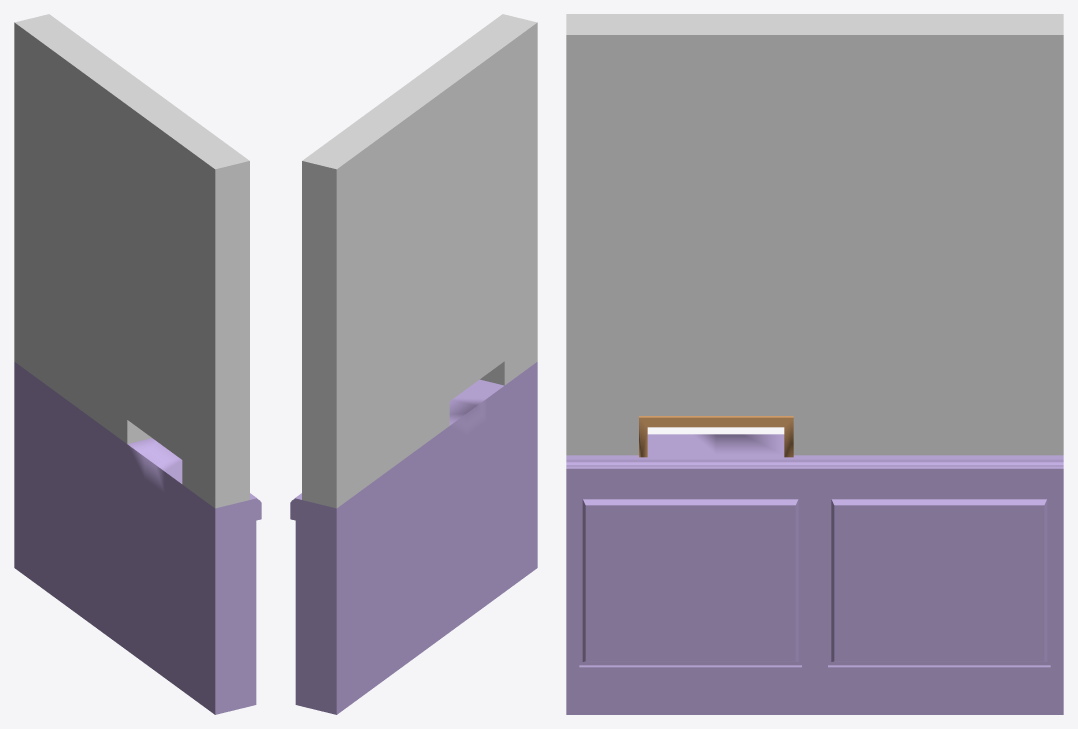
The model's file is WallWithNEWHole.fbx.
The picture shows the model from 3 angles, left to right: view 1: azimuth 30°, elevation 25°; view 2: azimuth 150°, elevation 25°; view 3: azimuth 270°, elevation 25°; orthographic projection. The views are drawn at different scales.
Parts seen in each view (by area): view 1: Wall_M; view 2: Wall_M; view 3: Wall_M.
Boxes of the visible parts, <box> form: Wall_M: <box>14,14,261,714</box>; Wall_M: <box>290,14,537,714</box>; Wall_M: <box>566,14,1063,714</box>.
Bounding box in the file's own units: 26.66 × 300 × 200.
